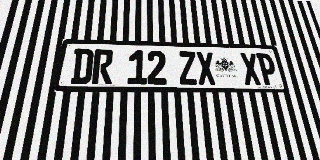1: (127, 50, 147, 84)
2: (147, 50, 166, 85)
D: (70, 48, 94, 84)
P: (256, 53, 279, 85)
R: (91, 49, 113, 84)
X: (239, 53, 262, 85), (195, 52, 217, 85)
Z: (178, 51, 198, 85)
